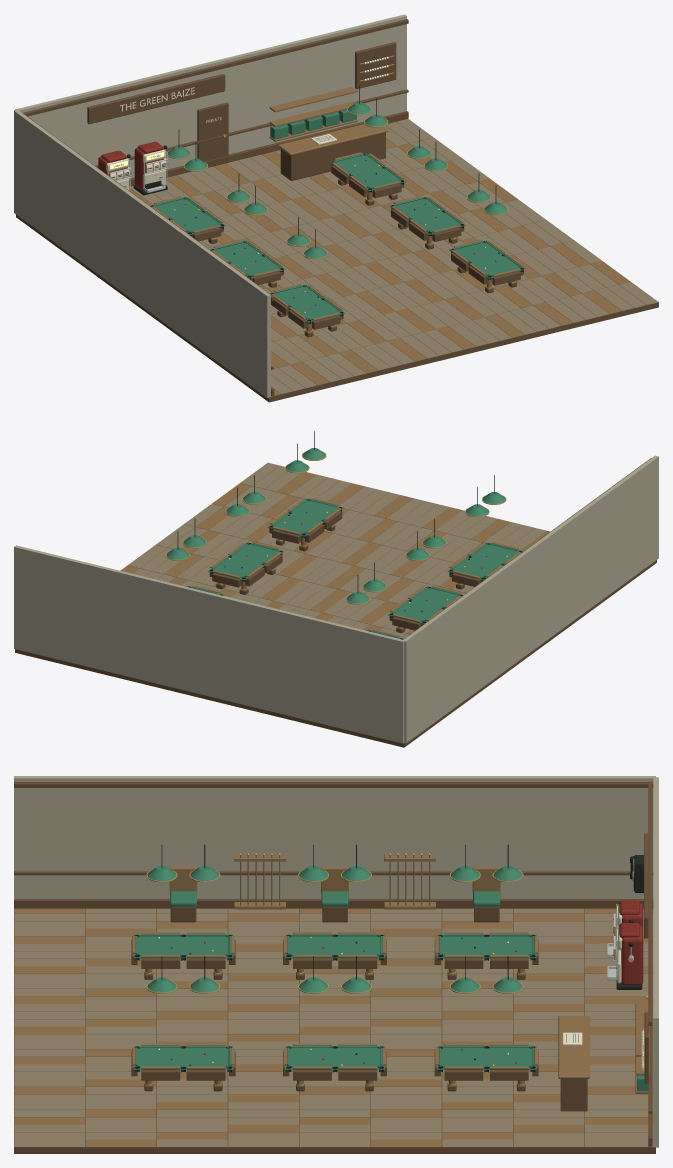
File: interior-poolhall.glb
3 renders of one model, top to bottom at view 1: azimuth 30°, elevation 25°; view 2: azimuth 150°, elevation 25°; view 3: azimuth 270°, elevation 25°, orthographic. The views are drawn at different scales.
Visible parts, largest first — view 1: floorboard.001, side wall, rear wall, floorboard, playing cloth, rear rail, hall foundation, ball tray shelf, ball return box, leather pocket basket, shade brass rim, cabinet body.001; view 2: rear wall, side wall, floorboard.001, floorboard, playing cloth, hall foundation, shade brass rim, leather pocket basket; view 3: floorboard.001, side wall, floorboard, playing cloth, hall foundation, side rail, cue rack, rear rail, rear wall, cabinet body.001, leather pocket basket, shade brass rim (+1 smaller).
Boxes of the visible parts, box(x1,y1,x2,y2) form: floorboard.001: box(129, 119, 658, 394); side wall: box(14, 110, 270, 397); rear wall: box(14, 14, 406, 178); floorboard: box(129, 124, 630, 396); playing cloth: box(150, 102, 525, 322); rear rail: box(22, 19, 408, 186); hall foundation: box(16, 123, 658, 402); ball tray shelf: box(269, 87, 357, 141); ball return box: box(270, 109, 356, 139); leather pocket basket: box(151, 85, 523, 323); shade brass rim: box(167, 105, 507, 259); cabinet body.001: box(134, 141, 168, 190); rear wall: box(14, 545, 404, 743); side wall: box(403, 455, 658, 743); floorboard.001: box(128, 462, 546, 638); floorboard: box(120, 472, 549, 636); playing cloth: box(166, 448, 522, 639); hall foundation: box(15, 473, 656, 747); shade brass rim: box(165, 451, 506, 604); leather pocket basket: box(177, 431, 521, 639); floorboard.001: box(14, 908, 653, 1147); side wall: box(14, 776, 655, 898); floorboard: box(14, 867, 653, 1147); playing cloth: box(133, 865, 536, 1069); hall foundation: box(14, 906, 655, 1153); side rail: box(14, 782, 653, 908); cue rack: box(234, 854, 435, 909); rear rail: box(644, 781, 652, 1146); rear wall: box(653, 777, 658, 1147); cabinet body.001: box(613, 923, 643, 984); leather pocket basket: box(134, 844, 578, 1072); shade brass rim: box(146, 870, 523, 993).
Size of the model in its own units: 16.08 by 4.19 by 18.08.
